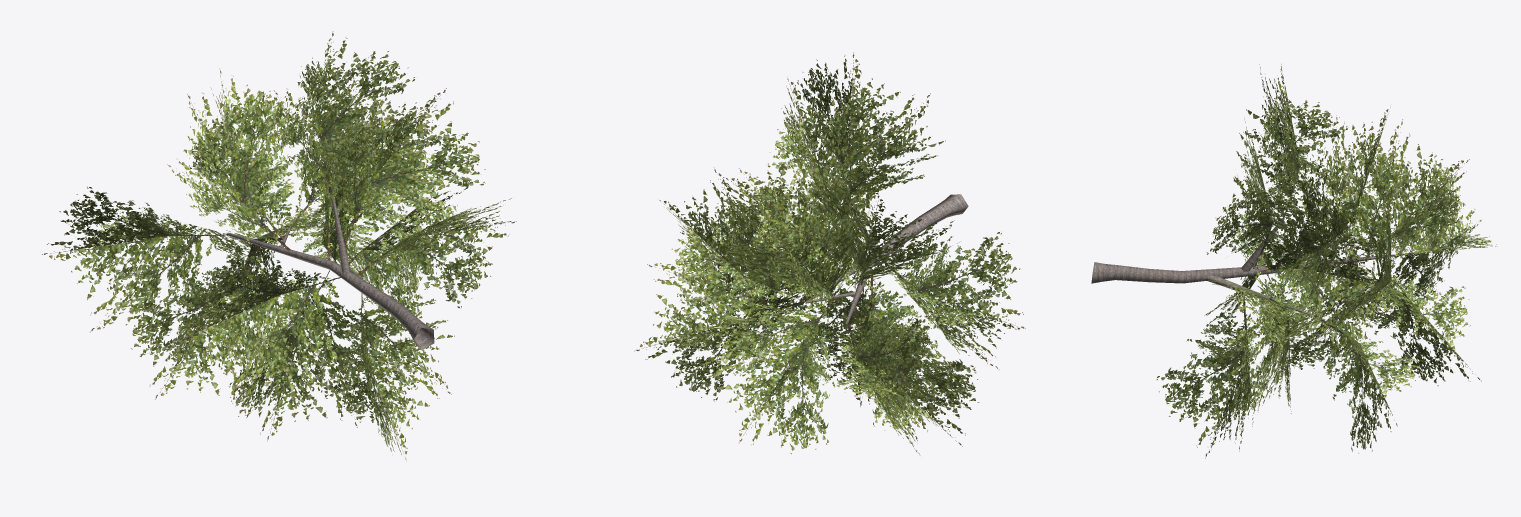
The model's file is baum hd med fbx.fbx.
3 views of the same model, side by side, from view 1: azimuth 30°, elevation 25°; view 2: azimuth 150°, elevation 25°; view 3: azimuth 270°, elevation 25° (orthographic). The views are drawn at different scales.
Parts seen in each view (by area): view 1: group_3; view 2: group_3; view 3: group_3.
Part boxes in pixels (<box>): group_3: <box>42,31,516,461</box>; group_3: <box>634,52,1025,455</box>; group_3: <box>1091,64,1497,458</box>.
Bounding box in the file's own units: 14.05 × 13.94 × 12.44.
